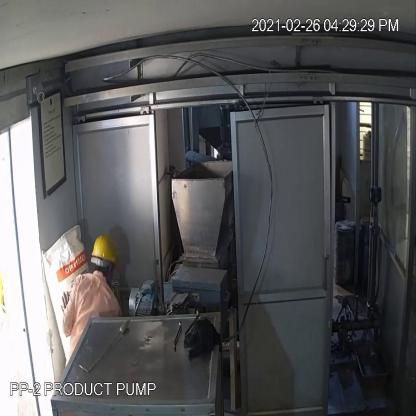helmet: (86, 233, 121, 287)
